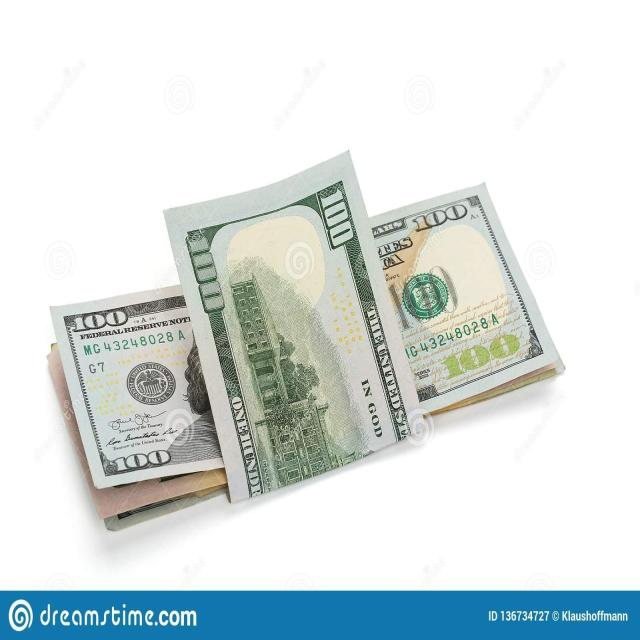100-Back: (171, 164, 443, 510)
100-Front: (53, 184, 584, 505)
